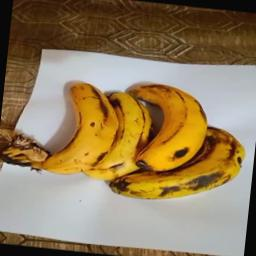Banana Unripe: (18, 70, 248, 207)
